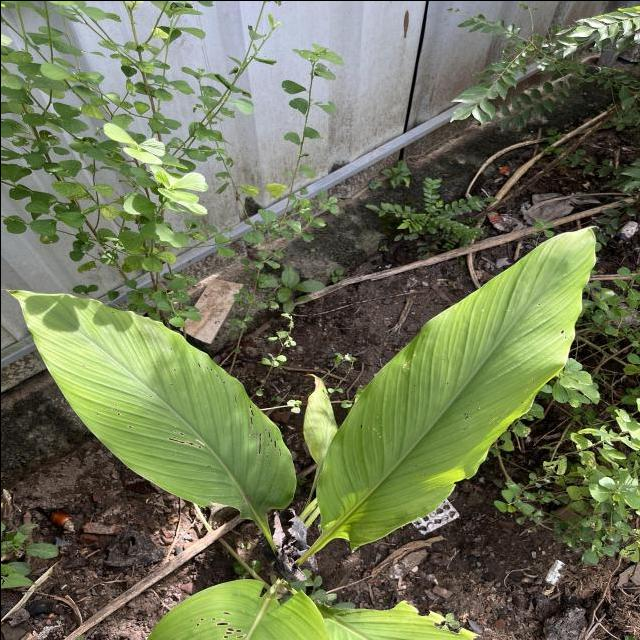Curcuma longa: (309, 223, 601, 556), (0, 282, 298, 528)
